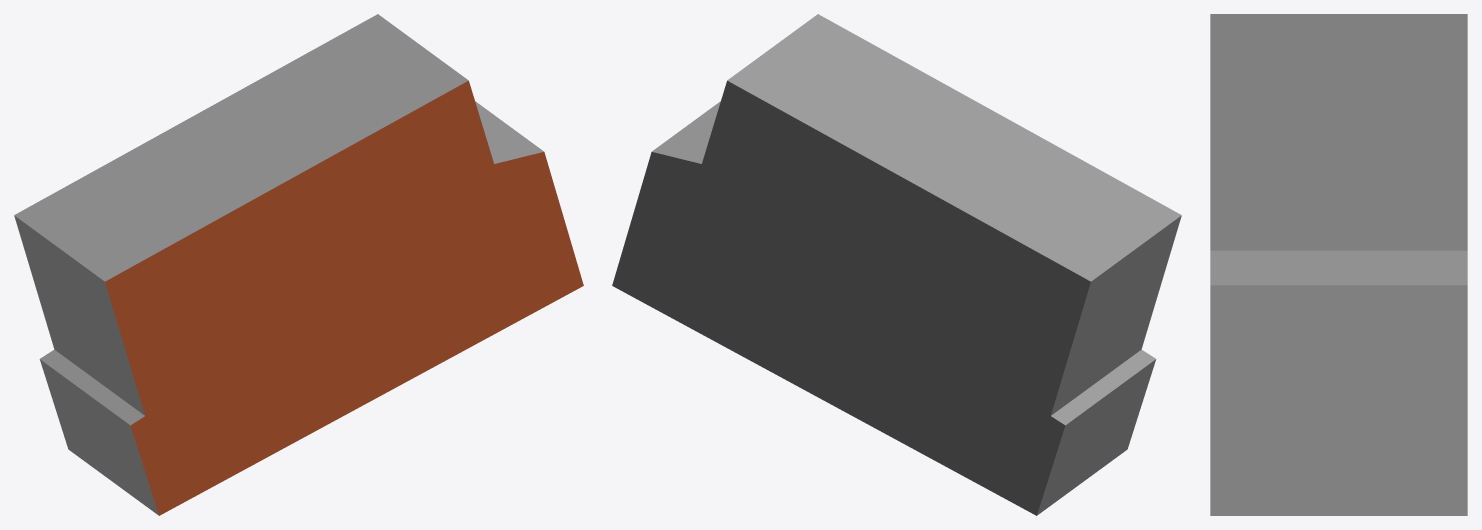
File: construction_5482_assumed_A_Casa_h6m.obj
3 renders of one model, left to right at view 1: azimuth 30°, elevation 25°; view 2: azimuth 150°, elevation 25°; view 3: azimuth 270°, elevation 25°, orthographic. The views are drawn at different scales.
Visible parts, largest first — view 1: construction_5482_assumed_A_Casa; view 2: construction_5482_assumed_A_Casa; view 3: construction_5482_assumed_A_Casa.
Part boxes in pixels (bbox=[...]): construction_5482_assumed_A_Casa: bbox=[14, 14, 583, 515]; construction_5482_assumed_A_Casa: bbox=[612, 14, 1181, 515]; construction_5482_assumed_A_Casa: bbox=[1210, 14, 1467, 515].
Bounding box in the file's own units: 18.26 × 13.11 × 6.
